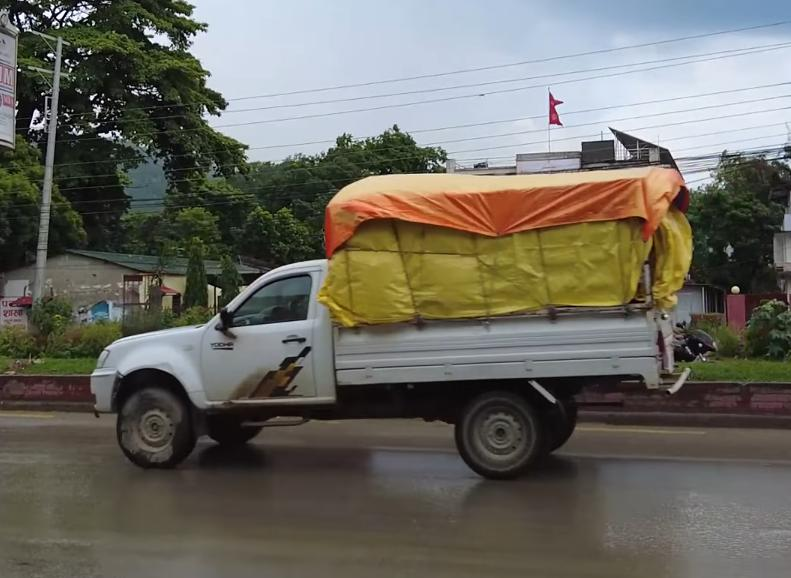transport_vehicle: (85, 164, 698, 490)
